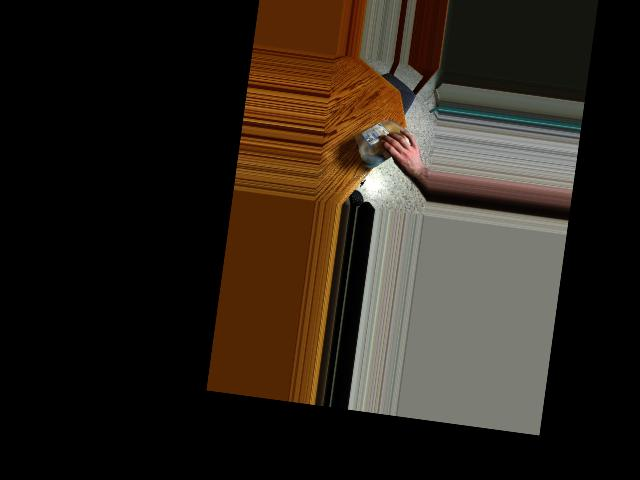cheese: (349, 113, 418, 172)
